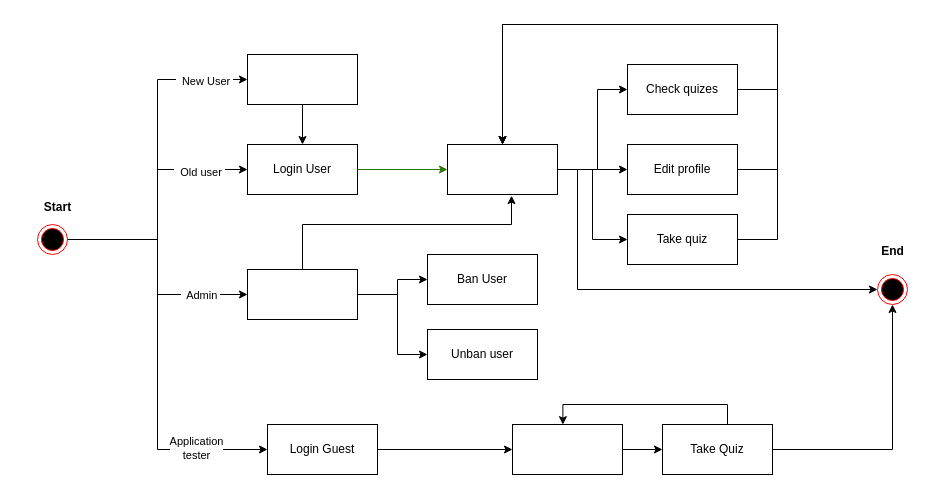
The diagram is 949 pixels wide and 492 high, and some of its shapes have lost their labels. Each missing label, with the box of its shape:
Login Admin: (246, 268, 358, 320)
Sign Up: (246, 54, 358, 104)
Visit guest home page: (512, 424, 622, 474)
Visit Home Page: (446, 144, 558, 194)
